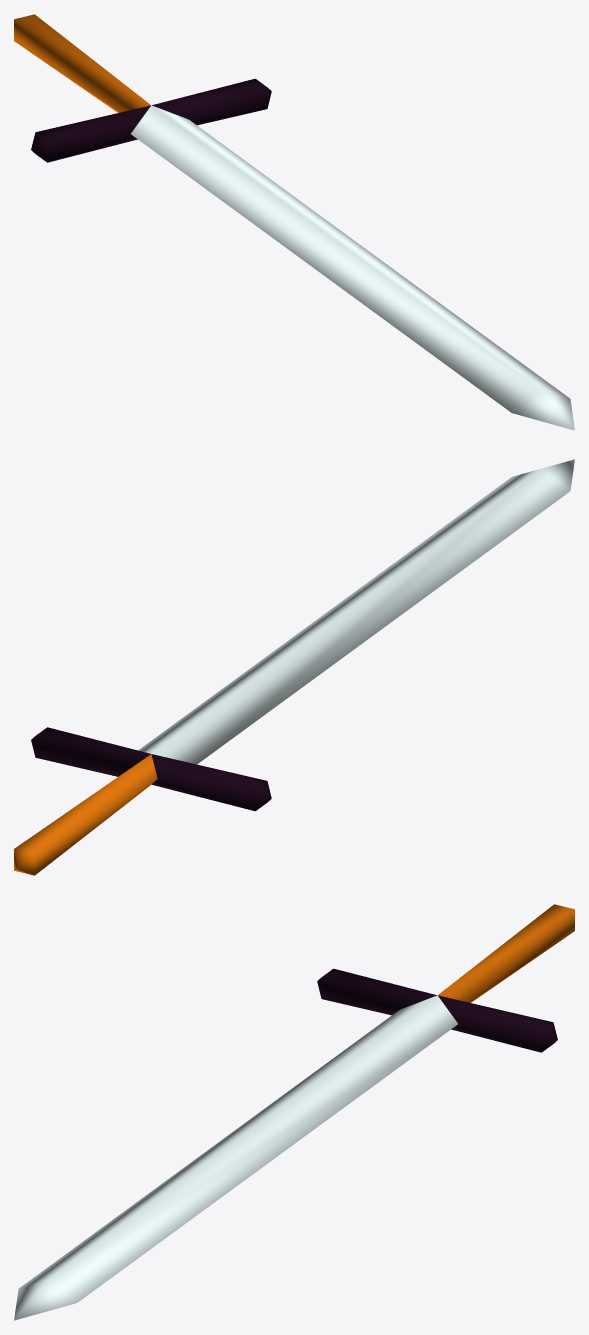
File: Sword.fbx
3 views of the same model, one above another, from view 1: azimuth 30°, elevation 25°; view 2: azimuth 150°, elevation 25°; view 3: azimuth 330°, elevation 25° (orthographic).
Parts seen in each view (by area): view 1: Sword; view 2: Sword; view 3: Sword.
Boxes of the visible parts, bbox=[...] form: Sword: bbox=[14, 14, 574, 430]; Sword: bbox=[14, 459, 574, 875]; Sword: bbox=[14, 904, 574, 1320].
Size of the model in its own units: 0.4104 by 0.05 by 1.64.
3 materials, 3 textured.
